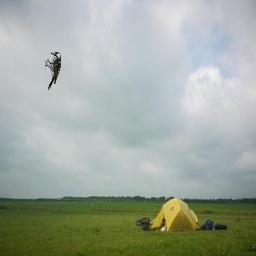Woodpecker: (45, 52, 61, 90)
